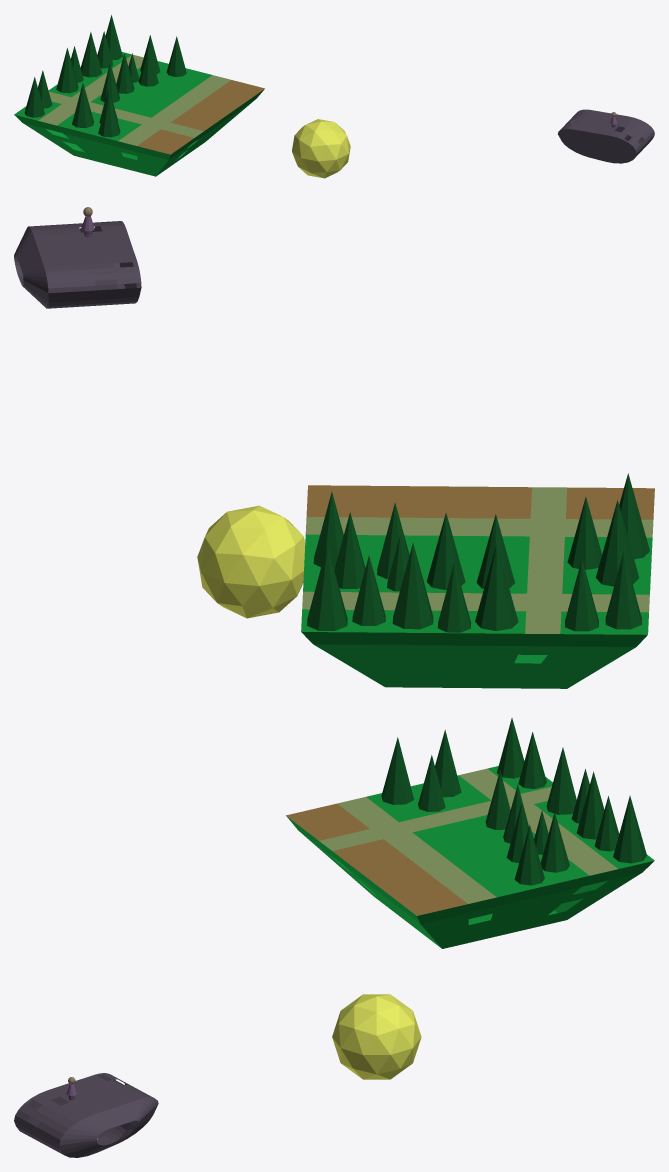
Rendered from project3.gltf.
3 renders of one model, top to bottom at view 1: azimuth 30°, elevation 25°; view 2: azimuth 150°, elevation 25°; view 3: azimuth 270°, elevation 25°, orthographic. The views are drawn at different scales.
Visible parts, largest first — view 1: Cube.002, Cube, sun, Cone.005, Cone.007, Cone, Cone.008, Cone.001, Cone.015, Cone.014, Cone.004, Cone.010 (+3 smaller); view 2: Cube.002, sun, Cube, Cone.007, Cone.008, Cone.010, Cone, Cone.001, Cone.004, Cone.012, Cone.002, Cone.006 (+6 smaller); view 3: Cube.002, Cube, sun, Cone.010, Cone.005, Cone.007, Cone.008, Cone.015, Cone, Cone.012, Cone.001, Cone.002 (+4 smaller).
Boxes of the visible parts, left/top/right/bottom form: Cube.002: left=14, top=52, right=264, bottom=176; Cube: left=558, top=109, right=654, bottom=163; sun: left=292, top=119, right=350, bottom=178; Cone.005: left=98, top=92, right=120, bottom=137; Cone.007: left=56, top=48, right=78, bottom=93; Cone: left=72, top=83, right=93, bottom=128; Cone.008: left=80, top=32, right=102, bottom=77; Cone.001: left=24, top=77, right=44, bottom=117; Cone.015: left=166, top=36, right=186, bottom=76; Cone.014: left=138, top=46, right=158, bottom=86; Cone.004: left=116, top=53, right=134, bottom=93; Cone.010: left=105, top=15, right=122, bottom=60; Cube.002: left=301, top=485, right=654, bottom=688; sun: left=197, top=505, right=305, bottom=618; Cube: left=14, top=221, right=141, bottom=308; Cone.007: left=475, top=544, right=518, bottom=630; Cone.008: left=392, top=543, right=433, bottom=629; Cone.010: left=307, top=544, right=347, bottom=630; Cone: left=595, top=500, right=639, bottom=586; Cone.001: left=605, top=551, right=641, bottom=629; Cone.004: left=426, top=512, right=465, bottom=589; Cone.012: left=334, top=512, right=365, bottom=588; Cone.002: left=565, top=559, right=598, bottom=631; Cone.006: left=567, top=497, right=601, bottom=569; Cube.002: left=286, top=766, right=654, bottom=948; Cube: left=14, top=1073, right=158, bottom=1157; sun: left=332, top=994, right=421, bottom=1079; Cone.010: left=613, top=795, right=646, bottom=863; Cone.005: left=381, top=737, right=414, bottom=804; Cone.007: left=546, top=747, right=576, bottom=814; Cone.008: left=576, top=771, right=604, bottom=839; Cone.015: left=514, top=825, right=544, bottom=885; Cone: left=435, top=729, right=461, bottom=797; Cone.012: left=540, top=812, right=569, bottom=872; Cone.001: left=497, top=718, right=524, bottom=778; Cone.002: left=518, top=732, right=546, bottom=788.
Bounding box in the file's own units: 73.78 × 18.85 × 56.93.
